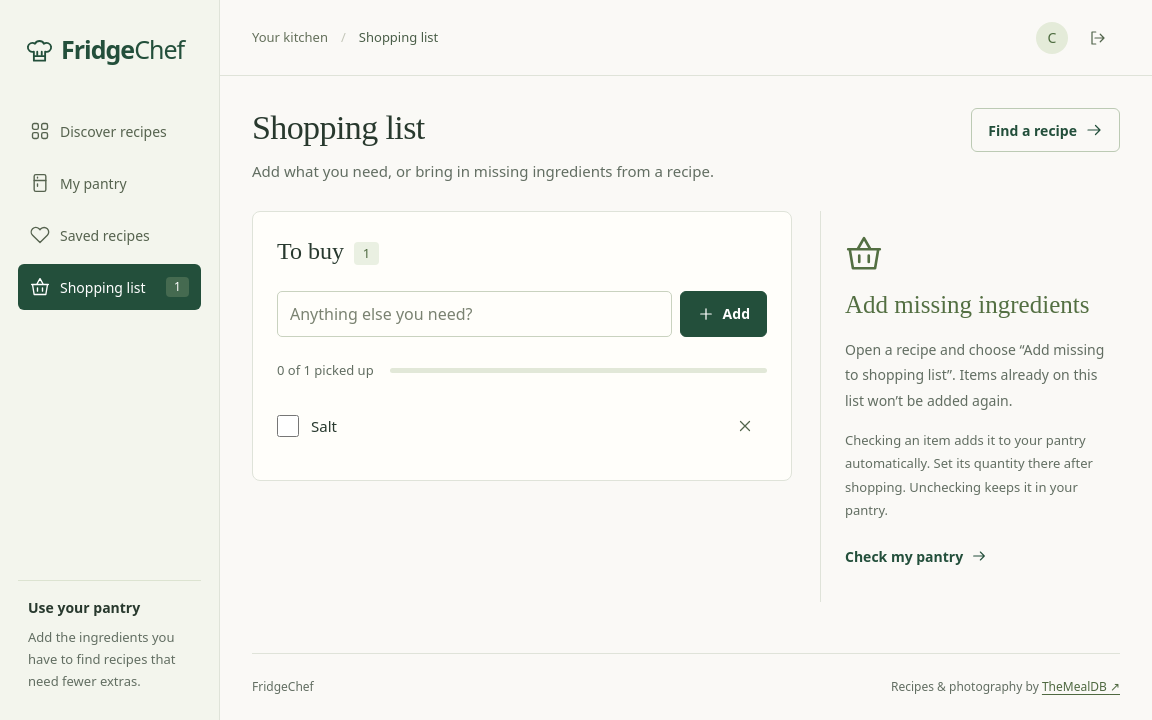
Test: refreshes the signed-in pantry after checking a shopping item
Click the checkbox labelled "Salt": {"x": 288, "y": 426} [277,416,299,438]
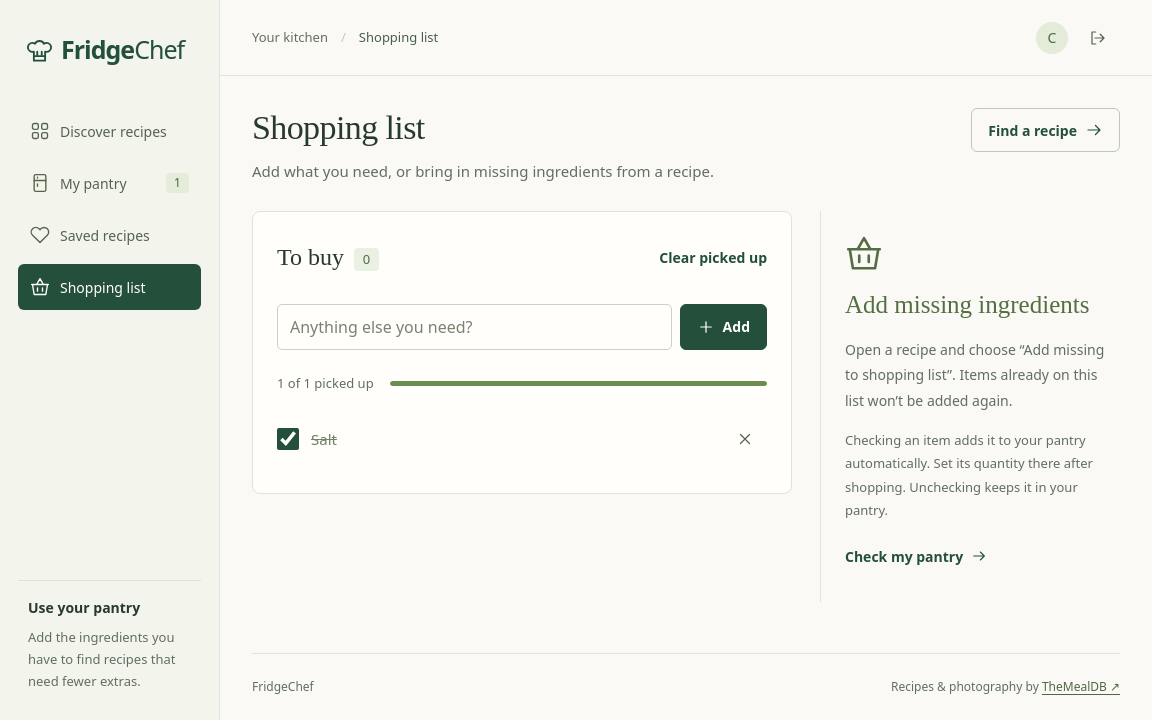
Click the link "My pantry 1": {"x": 110, "y": 183} [30,173,189,193]
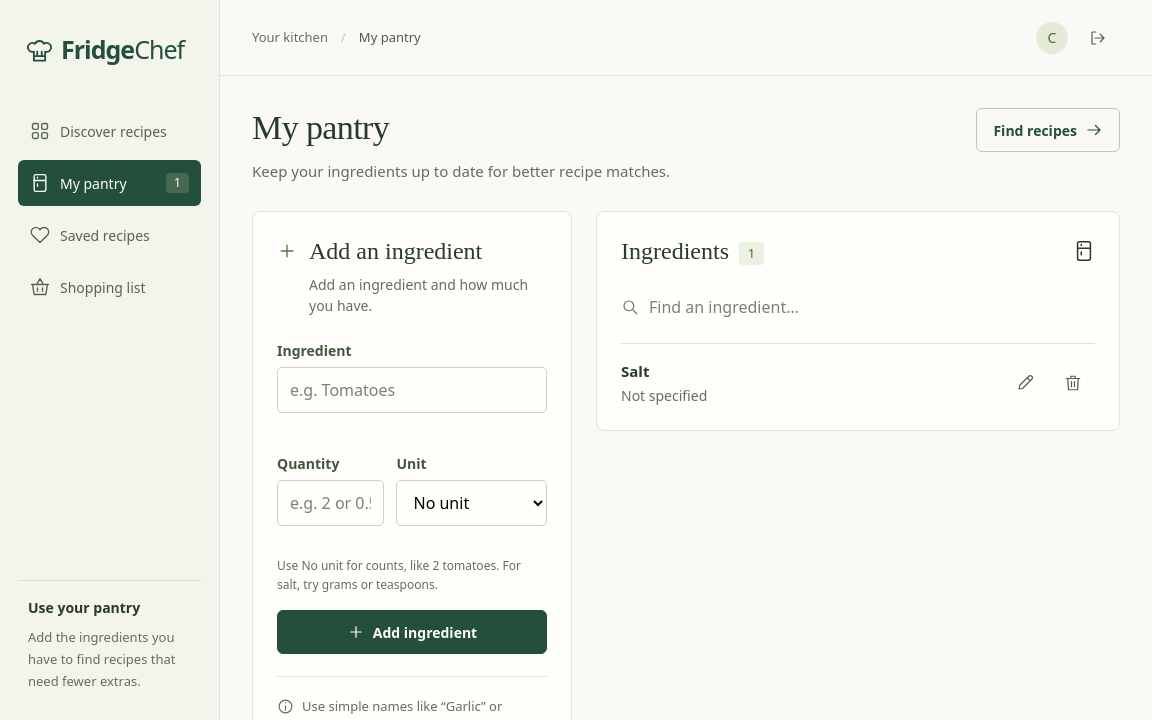
Check: the text "Salt" is shown, box [621,361,649,381]
Check: the text "Not specified" is shown, box [621,386,707,406]
